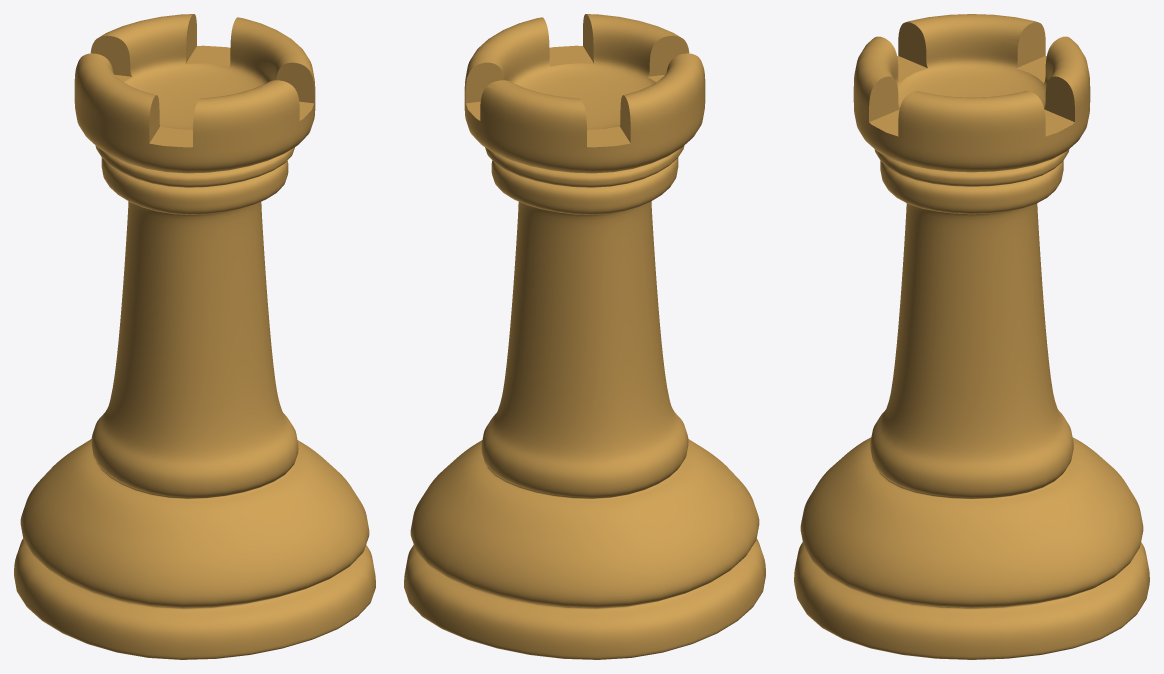
File: rook.obj
The picture shows the model from 3 angles, left to right: view 1: azimuth 30°, elevation 25°; view 2: azimuth 150°, elevation 25°; view 3: azimuth 270°, elevation 25°; orthographic projection.
Parts seen in each view (by area): view 1: tour.003; view 2: tour.003; view 3: tour.003.
Boxes of the visible parts, box(x1,y1,x2,y2) form: tour.003: box(14, 14, 375, 659); tour.003: box(404, 14, 765, 659); tour.003: box(794, 14, 1149, 659).
Bounding box in the file's own units: 0.4178 × 0.6878 × 0.4178.
